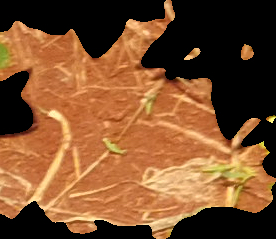soil: (4, 6, 273, 235)
